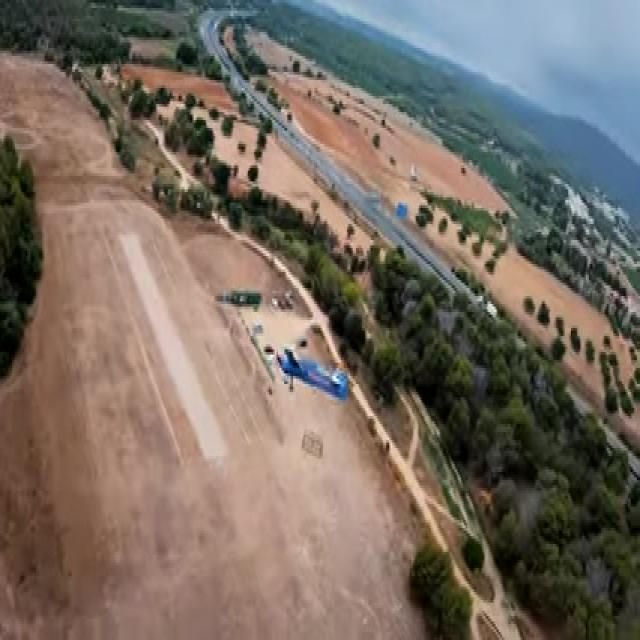iha: (310, 346, 316, 402)
